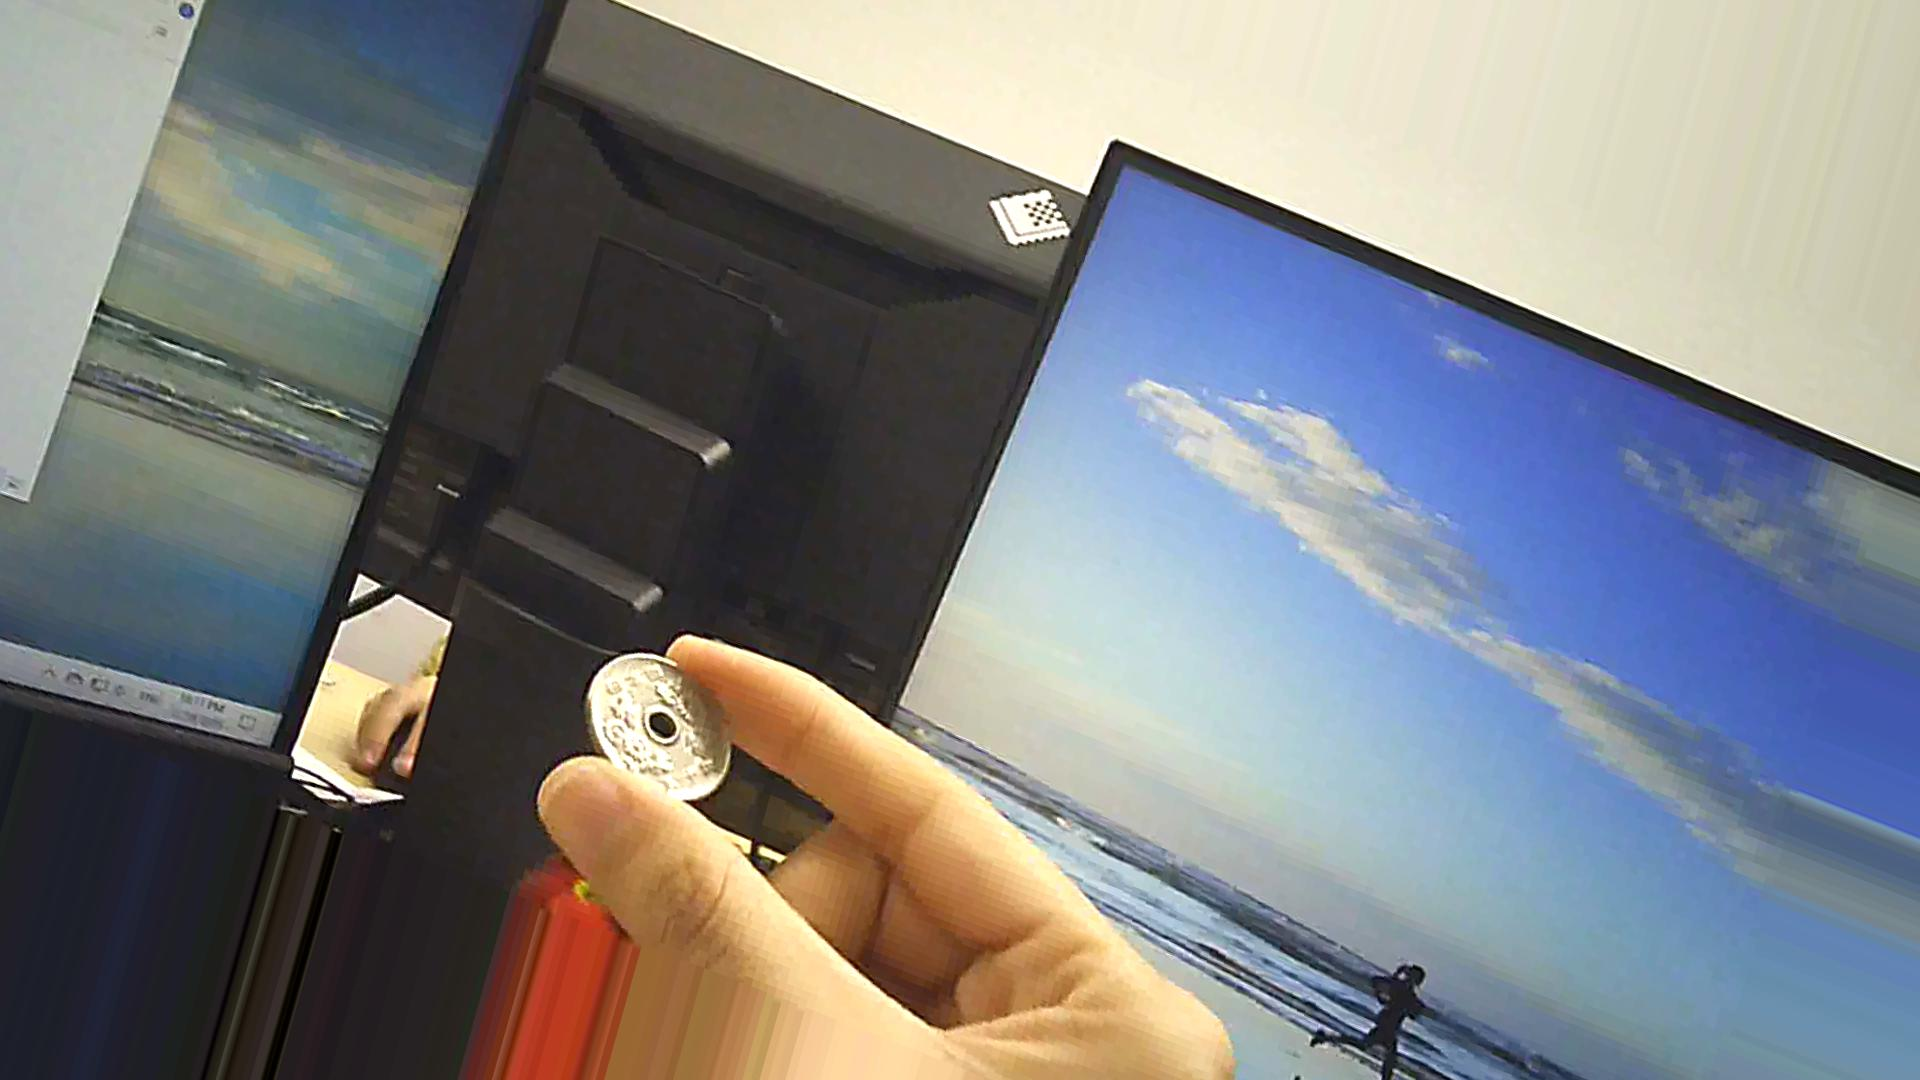50 Yen: (585, 651, 728, 796)
